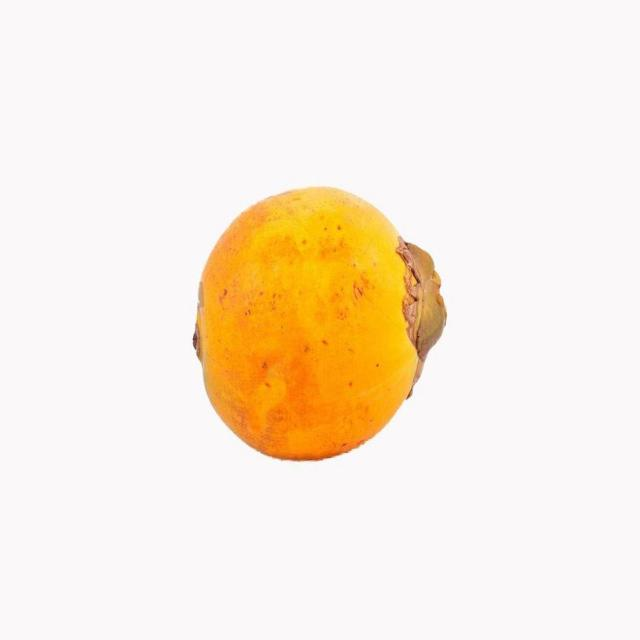good: (192, 187, 448, 464)
